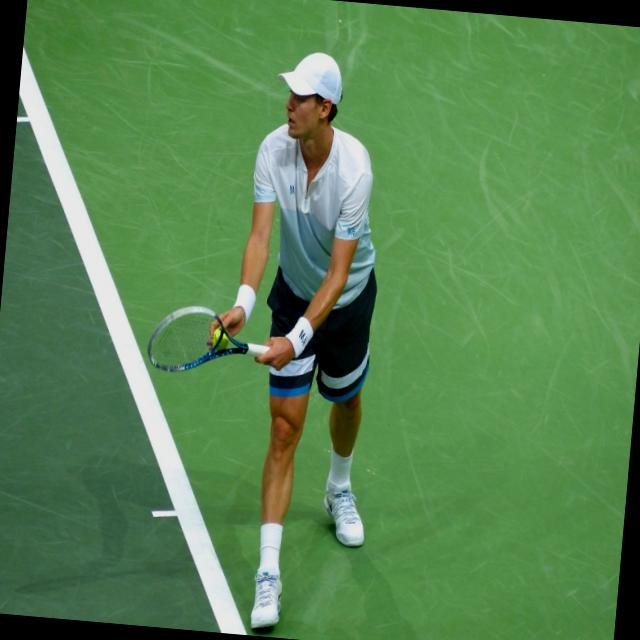Tennis Ball: (209, 326, 229, 351)
